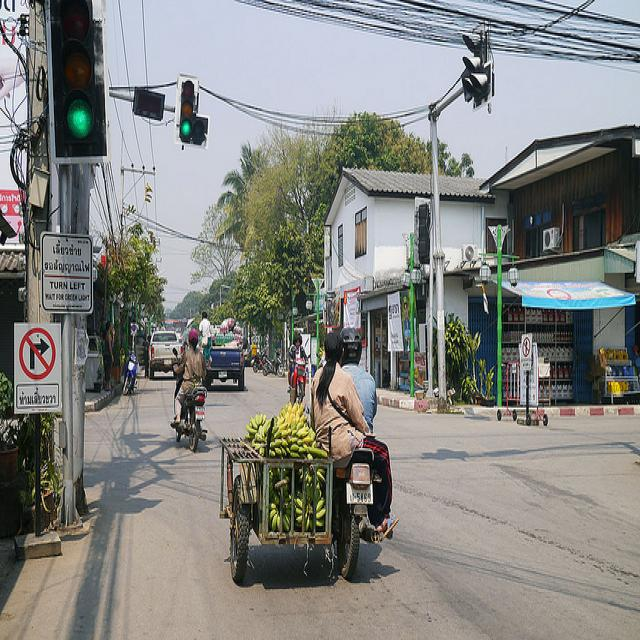motor: (334, 444, 385, 590), (172, 383, 208, 455), (287, 359, 305, 407), (123, 345, 140, 395), (261, 349, 285, 378), (253, 355, 264, 374)
